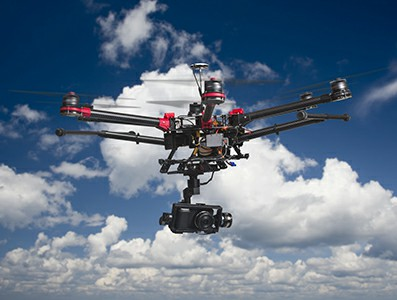maybay_khongnguoilai: (30, 65, 360, 199)
